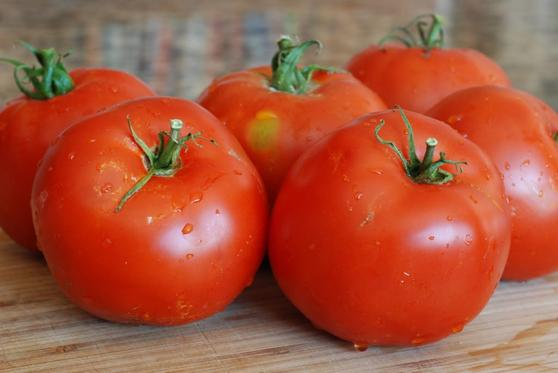tomato: (269, 106, 508, 349), (35, 94, 271, 322)
